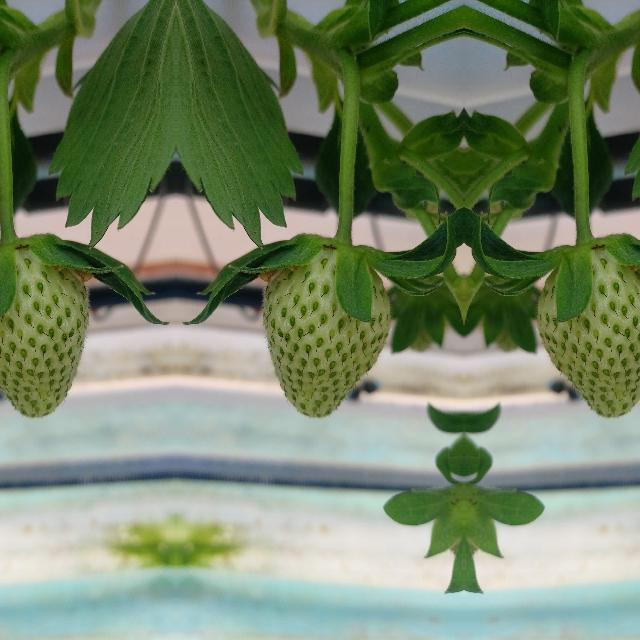Health_25: (258, 247, 392, 418), (534, 247, 640, 418), (0, 247, 92, 418)
